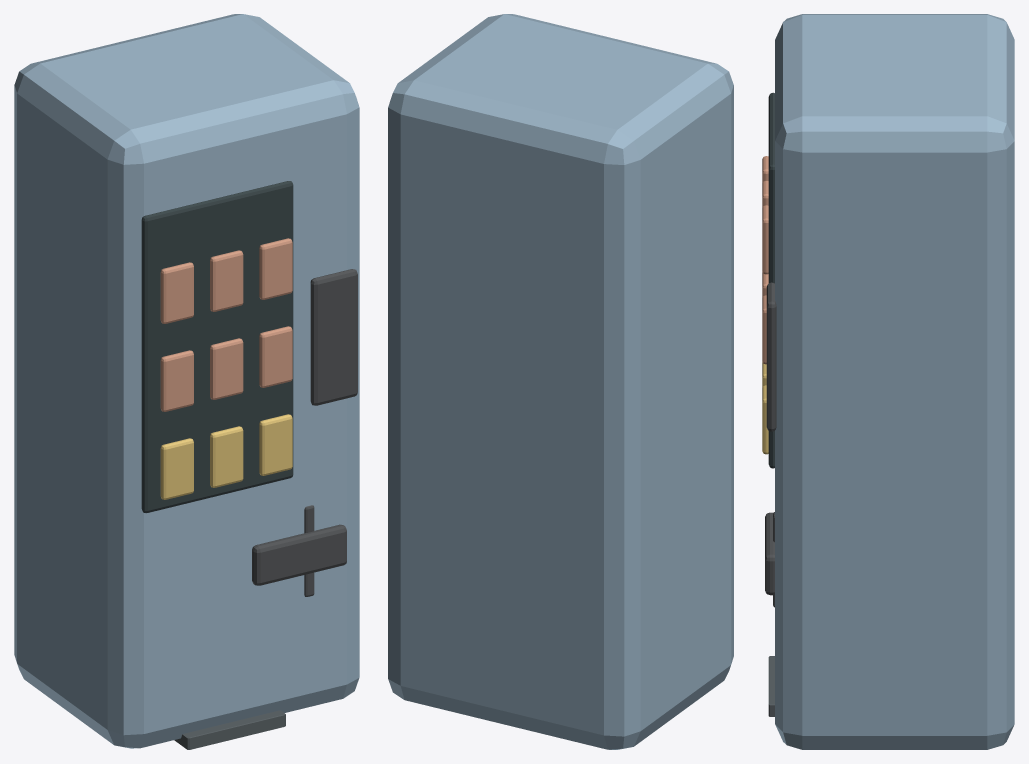
Rendered from coffee.glb.
3 renders of one model, left to right at view 1: azimuth 30°, elevation 25°; view 2: azimuth 150°, elevation 25°; view 3: azimuth 270°, elevation 25°, orthographic. The views are drawn at different scales.
Visible parts, largest first — view 1: HF_VendingMachine, HF_EspressoMachinePremium; view 2: HF_VendingMachine; view 3: HF_VendingMachine.
Boxes of the visible parts, x1=… form: HF_VendingMachine: x1=14, y1=14, x2=359, y2=748; HF_EspressoMachinePremium: x1=174, y1=710, x2=285, y2=749; HF_VendingMachine: x1=388, y1=14, x2=733, y2=749; HF_VendingMachine: x1=762, y1=14, x2=1014, y2=749.
Bounding box in the file's own units: 0.86 × 2.04 × 0.7375.
